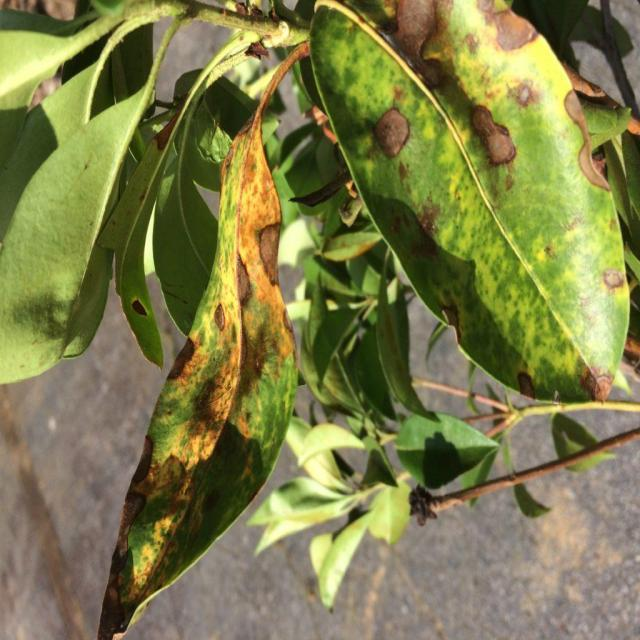blight: (378, 0, 529, 74), (230, 193, 302, 320), (108, 441, 187, 545), (458, 95, 539, 189), (172, 346, 238, 444), (365, 93, 431, 190)
